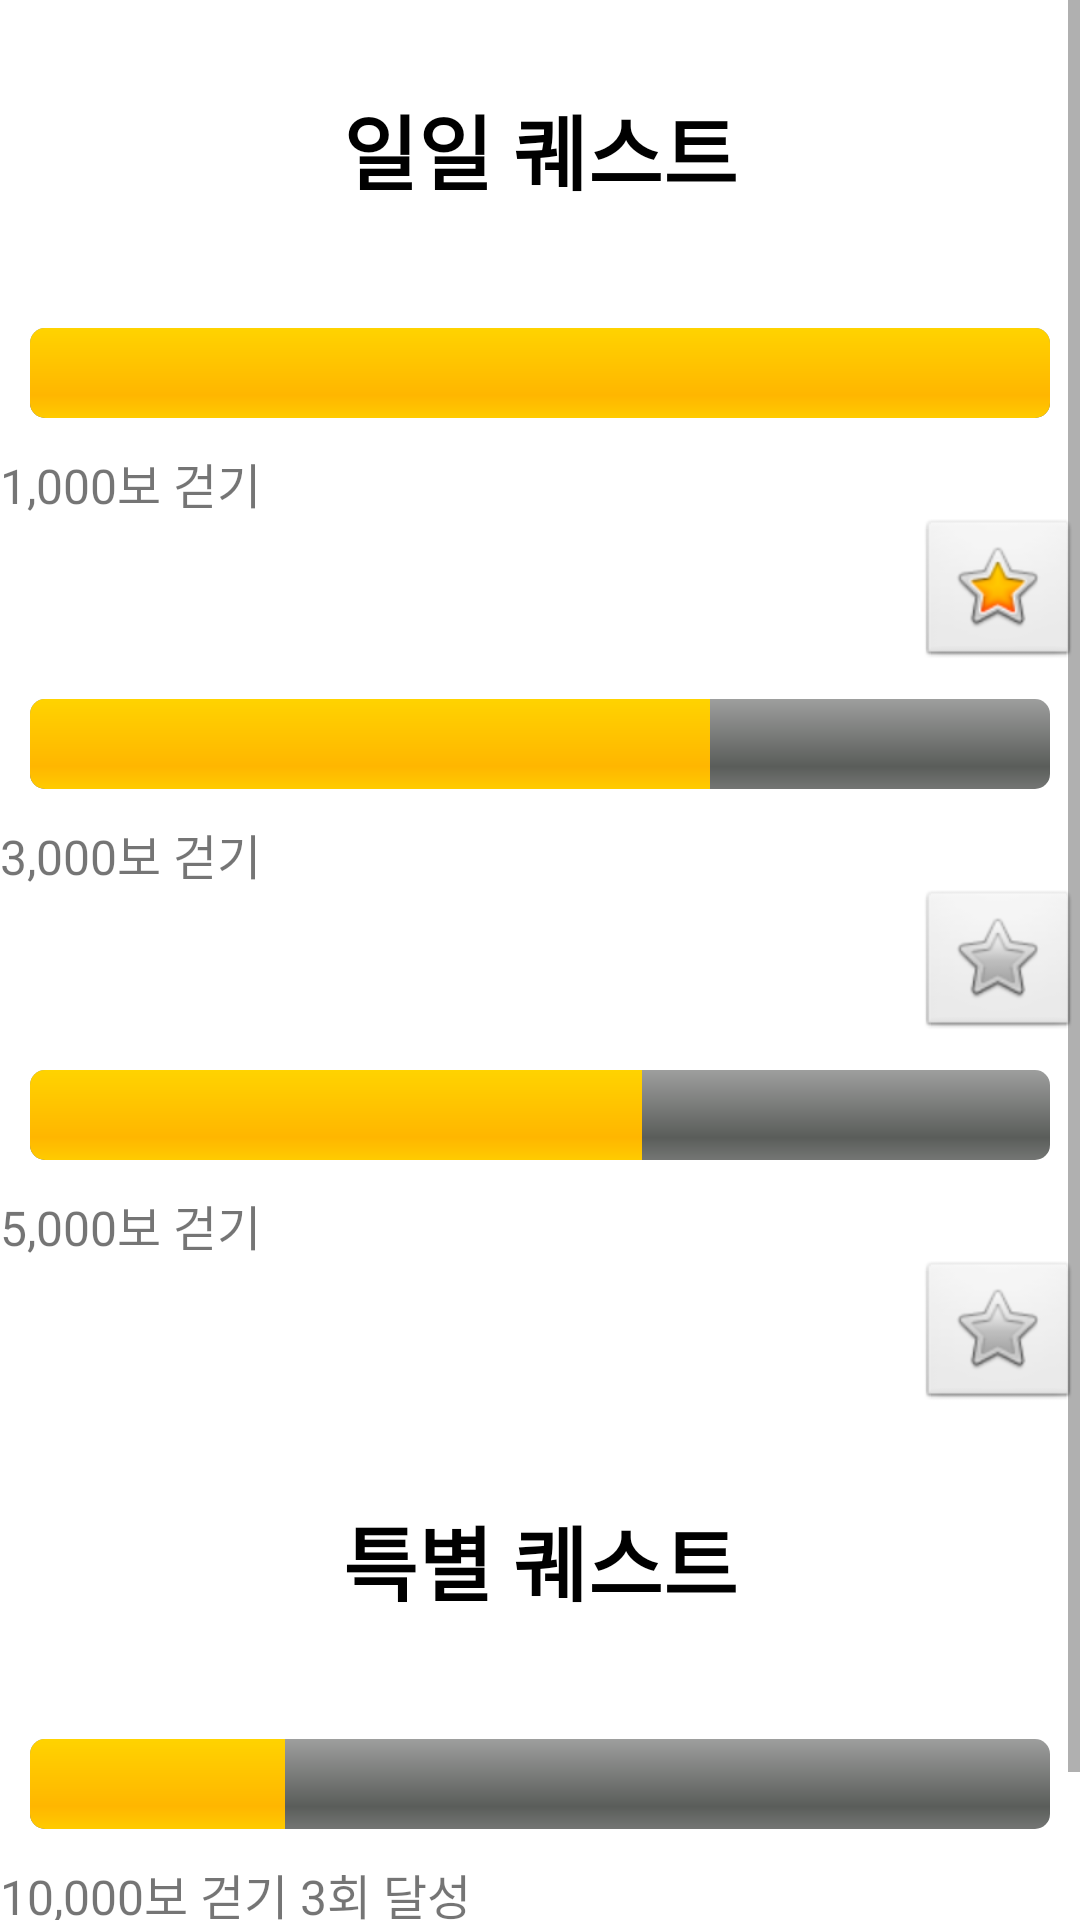

Icon click points for this 1080 x 1920 phone screenshot, format point (x, y):
star off: point (998, 958), point (998, 1329)
star on: point (997, 587)
